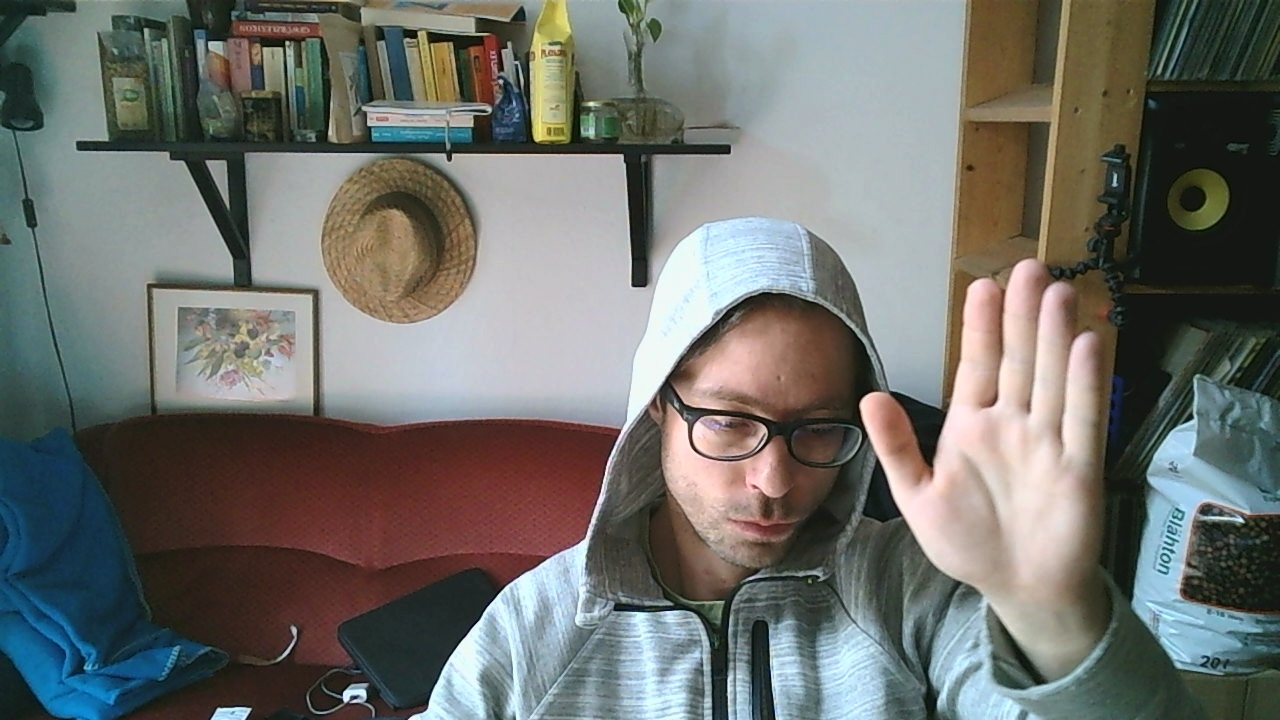hello: (858, 256, 1114, 619)
